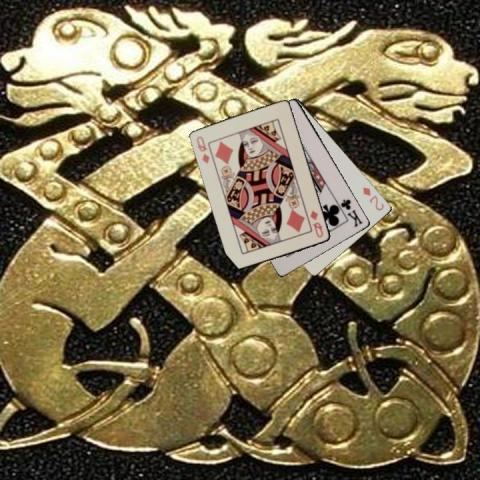2d: (360, 184, 386, 212)
Kc: (338, 196, 365, 228)
Qd: (307, 208, 325, 240), (194, 133, 211, 165)
